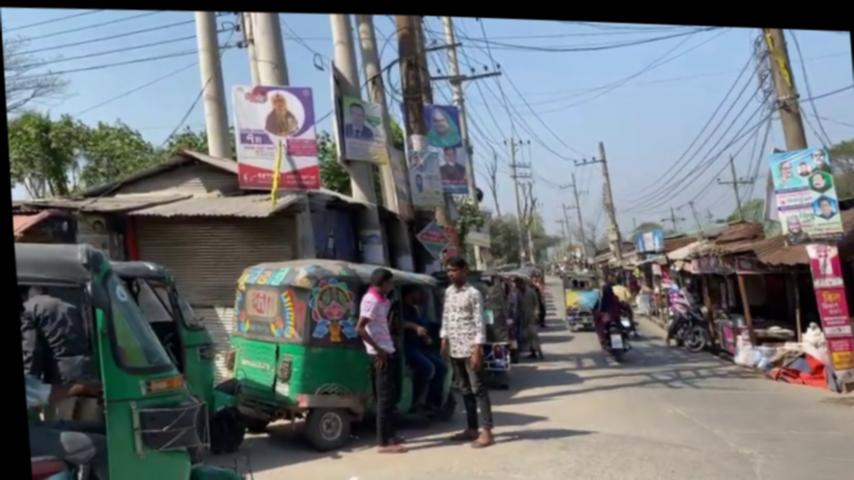Curb: (586, 293, 630, 358), (660, 296, 706, 349)
Fence: (428, 250, 490, 445), (261, 88, 297, 134), (422, 103, 460, 145), (340, 98, 372, 138)
Garbage: (760, 22, 854, 385), (319, 12, 390, 278), (762, 22, 807, 144), (193, 10, 230, 157)
Rickshaw: (11, 235, 235, 480), (211, 249, 454, 454), (557, 264, 600, 328)
